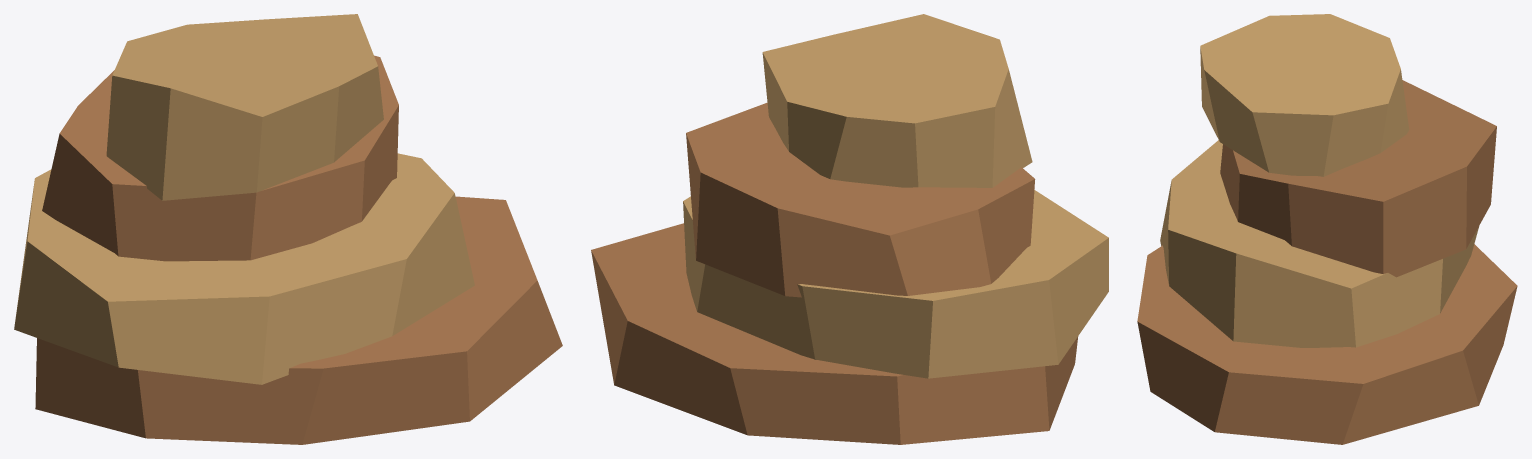
The model's file is sandstone.glb.
3 renders of one model, left to right at view 1: azimuth 30°, elevation 25°; view 2: azimuth 150°, elevation 25°; view 3: azimuth 270°, elevation 25°, orthographic. The views are drawn at different scales.
Visible parts, largest first — view 1: Sandstone; view 2: Sandstone; view 3: Sandstone.
Part boxes in pixels (x1,y1,x2,y2): Sandstone: [14, 14, 562, 444]; Sandstone: [591, 14, 1108, 444]; Sandstone: [1137, 14, 1517, 444].
Size of the model in its own units: 1.48 by 0.9599 by 1.17.
